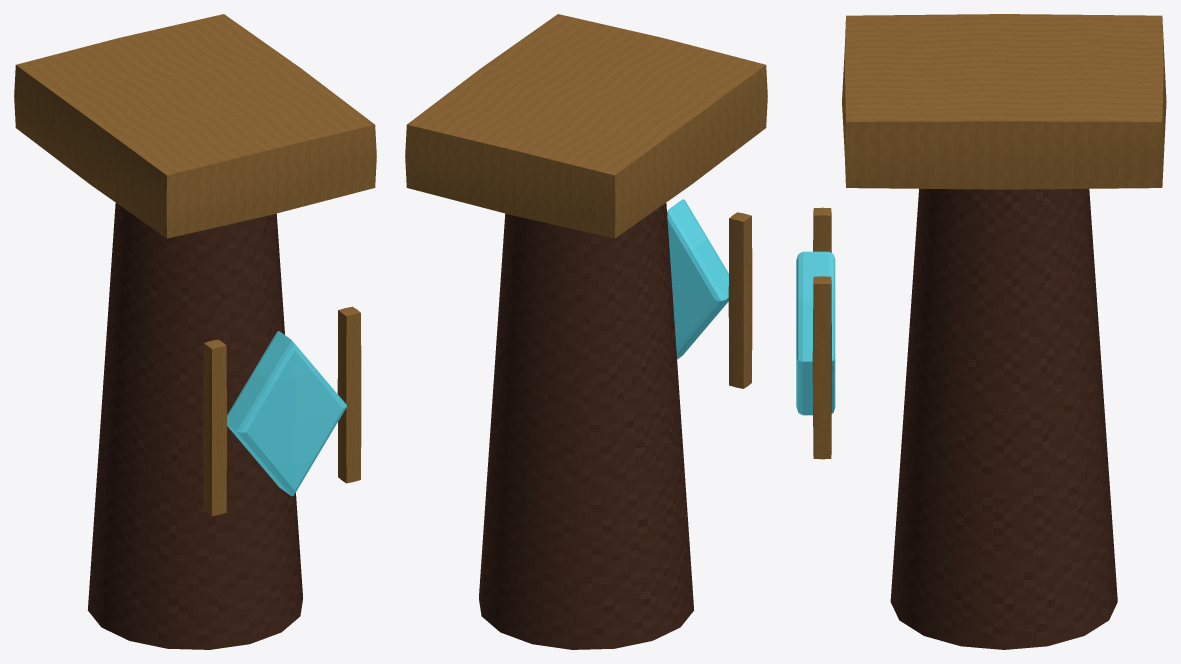
The picture shows the model from 3 angles, left to right: view 1: azimuth 30°, elevation 25°; view 2: azimuth 150°, elevation 25°; view 3: azimuth 270°, elevation 25°; orthographic projection. The views are drawn at different scales.
Parts seen in each view (by area): view 1: leather.0, brass.1, crystal.2, brass.3, brass.4; view 2: leather.0, brass.1, crystal.2, brass.3; view 3: leather.0, brass.1, crystal.2, brass.4, brass.3.
Boxes of the visible parts, <box> form: leather.0: <box>87,203,302,649</box>; brass.1: <box>14,14,376,238</box>; crystal.2: <box>227,331,346,496</box>; brass.3: <box>203,339,226,515</box>; brass.4: <box>337,306,361,483</box>; leather.0: <box>479,203,694,649</box>; brass.1: <box>405,14,767,238</box>; crystal.2: <box>667,199,728,359</box>; brass.3: <box>728,212,752,388</box>; leather.0: <box>890,188,1117,649</box>; brass.1: <box>842,14,1166,189</box>; crystal.2: <box>796,251,835,415</box>; brass.4: <box>812,276,832,459</box>; brass.3: <box>813,207,831,252</box>.
Bounding box in the file's own units: 0.08 × 0.1825 × 0.114.
3 materials, 3 textured.
